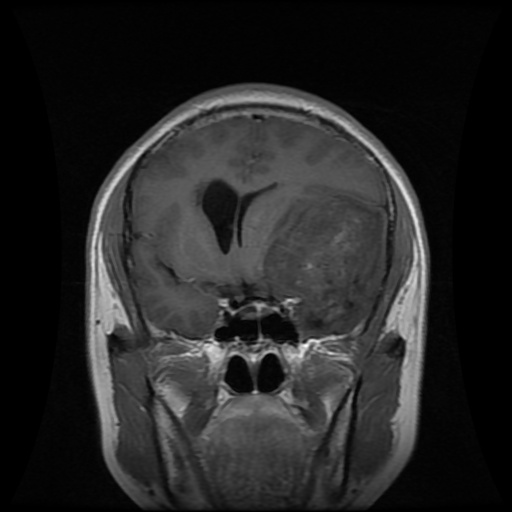glioma: (265, 185, 387, 338)
